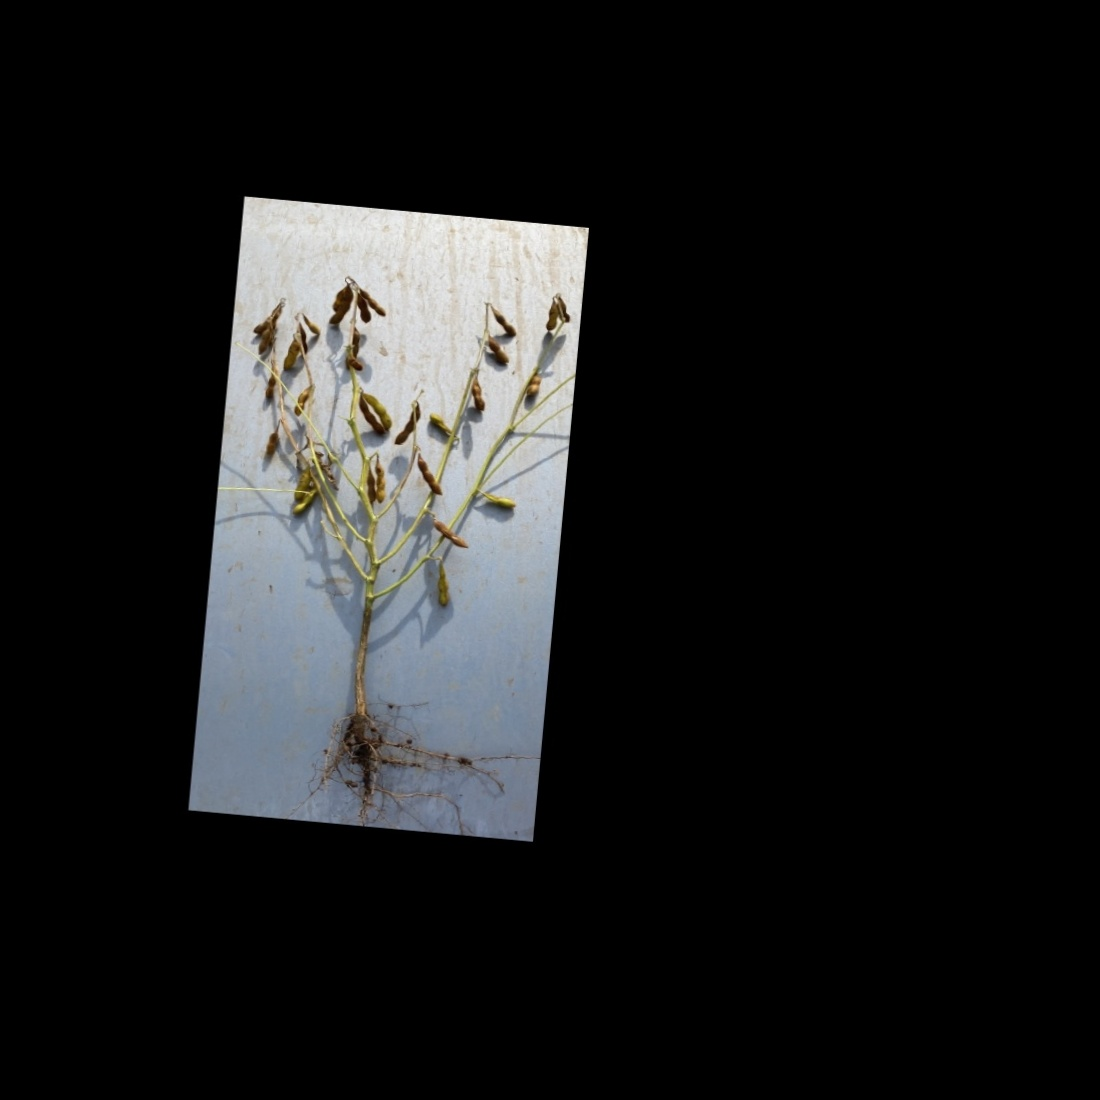pod: (387, 395, 430, 455), (352, 389, 401, 437), (347, 389, 390, 440), (429, 557, 460, 609), (352, 282, 391, 322), (411, 457, 448, 496), (487, 303, 522, 340), (430, 520, 476, 548), (349, 288, 379, 330), (460, 373, 490, 415), (276, 332, 303, 377), (482, 338, 515, 367), (261, 422, 283, 461), (370, 465, 391, 505), (292, 386, 313, 419), (262, 373, 280, 407), (527, 374, 550, 399)
soy: (205, 231, 574, 801)
